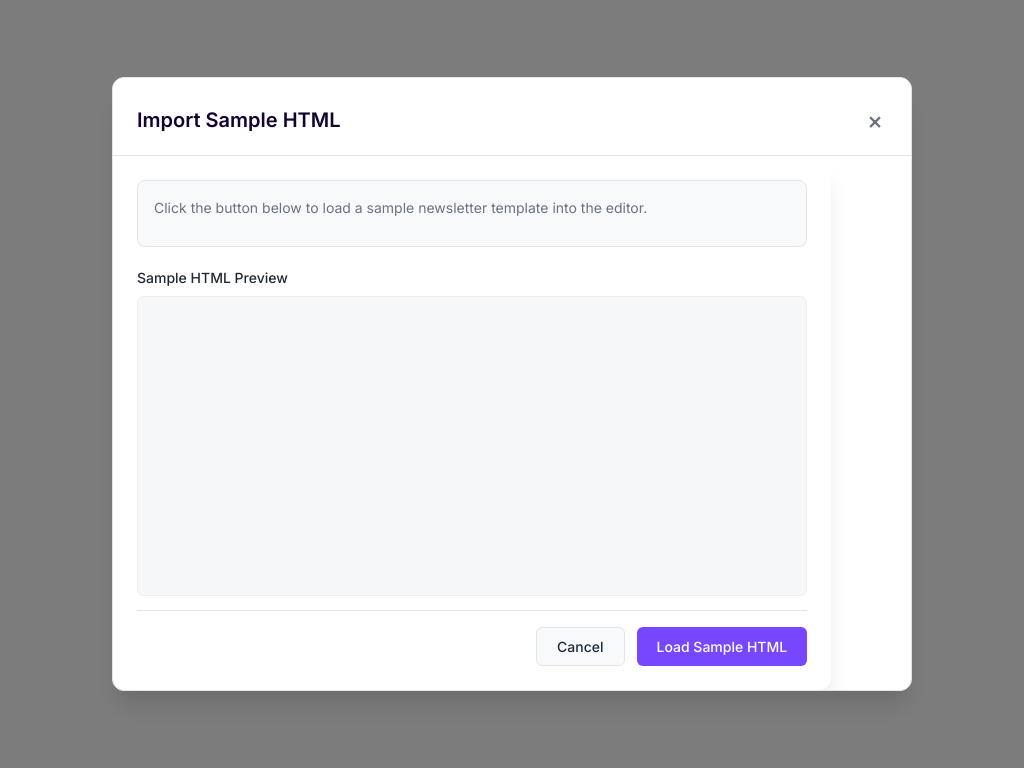
HtmlImportModal component › should show loading state during import
The width and height of the screenshot is (1024, 768).
Click the button "Load Sample HTML": (722, 647) [636,627,807,666]
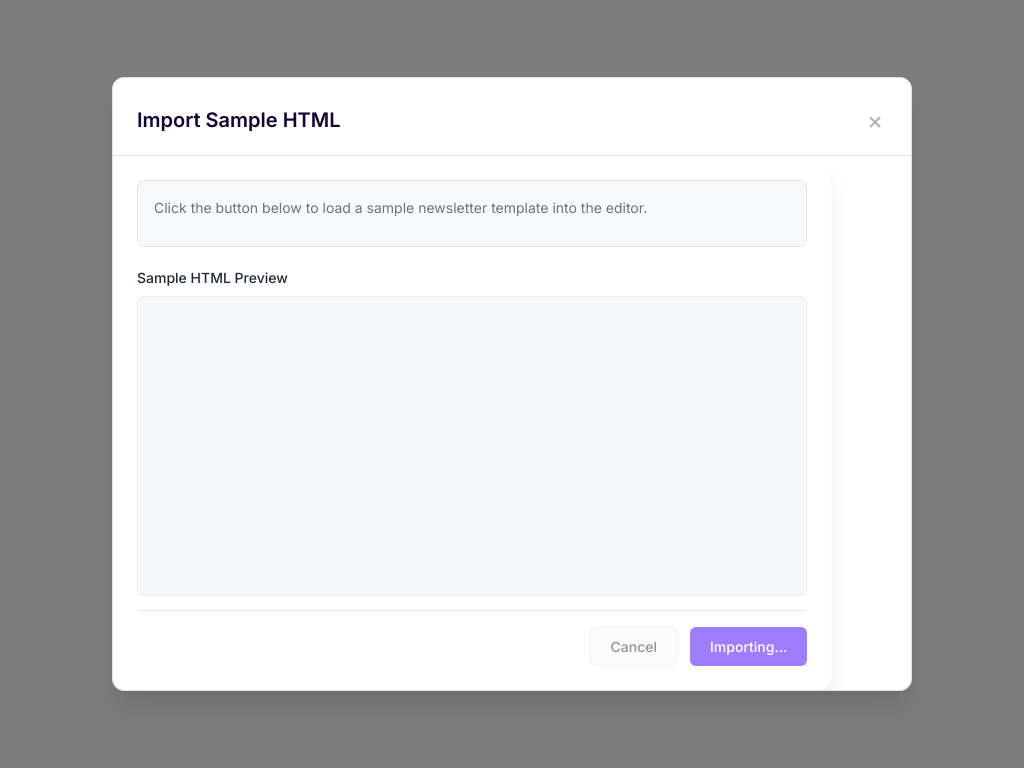
expect the button "Importing..." is disabled: met, box [690,627,807,666]
expect the button "Cancel" is disabled: met, box [590,627,678,666]
